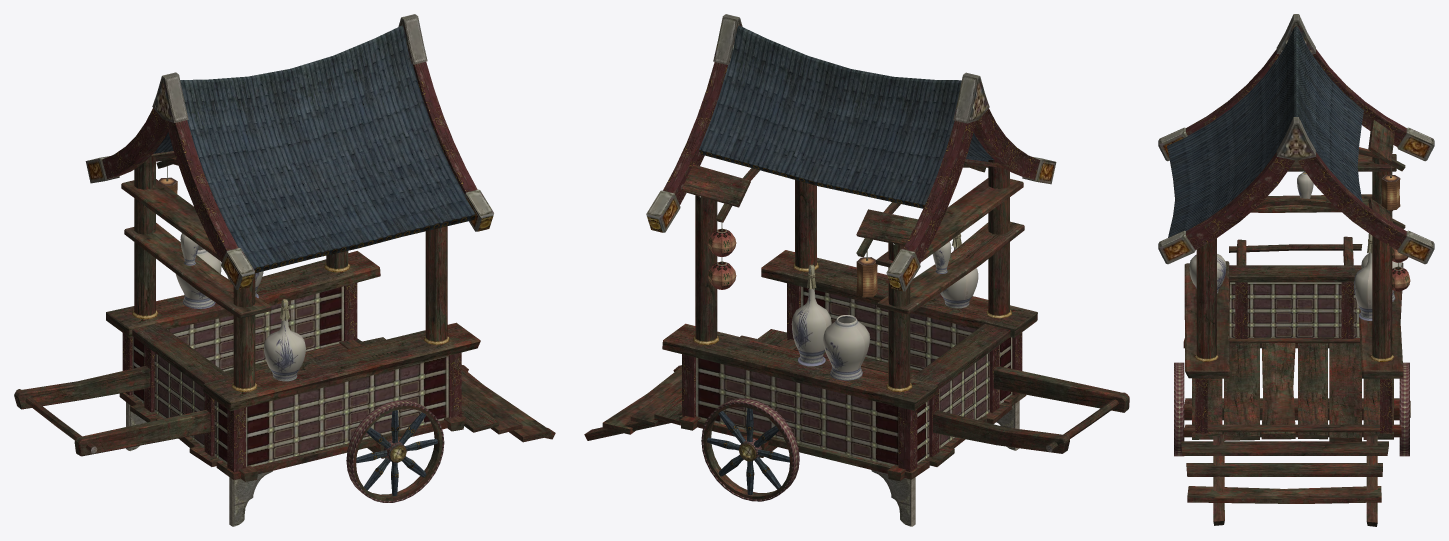
Rendered from TW2_9_ADDONS_02_21_ver2-transformed.glb.
The picture shows the model from 3 angles, left to right: view 1: azimuth 30°, elevation 25°; view 2: azimuth 150°, elevation 25°; view 3: azimuth 270°, elevation 25°; orthographic projection. The views are drawn at different scales.
Visible parts, largest first — view 1: default; view 2: default; view 3: default.
Part boxes in pixels (x1,y1,x2,y2): default: (14, 14, 555, 526); default: (584, 14, 1129, 526); default: (1158, 14, 1434, 526).
Size of the model in its own units: 4.33 by 3.69 by 2.52.
Materials: 6 (6 with a texture image).
